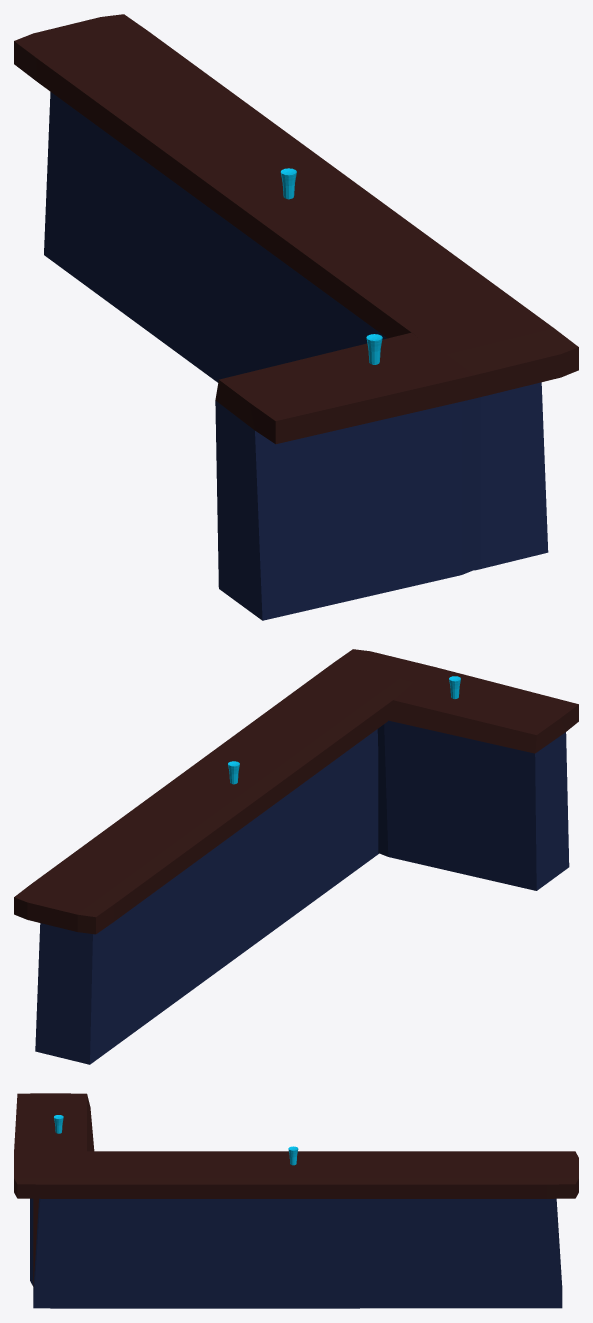
The model's file is Isla.fbx.
3 views of the same model, one above another, from view 1: azimuth 30°, elevation 25°; view 2: azimuth 150°, elevation 25°; view 3: azimuth 270°, elevation 25° (orthographic). The views are drawn at different scales.
Visible parts, largest first — view 1: Cubo.034; view 2: Cubo.034; view 3: Cubo.034.
Part boxes in pixels (bbox=[...]): Cubo.034: bbox=[14, 14, 578, 620]; Cubo.034: bbox=[14, 649, 578, 1064]; Cubo.034: bbox=[14, 1093, 578, 1308].
Bounding box in the file's own units: 827 × 614 × 2158.
